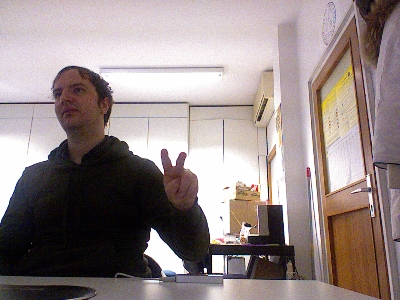剪刀: (159, 147, 199, 208)
